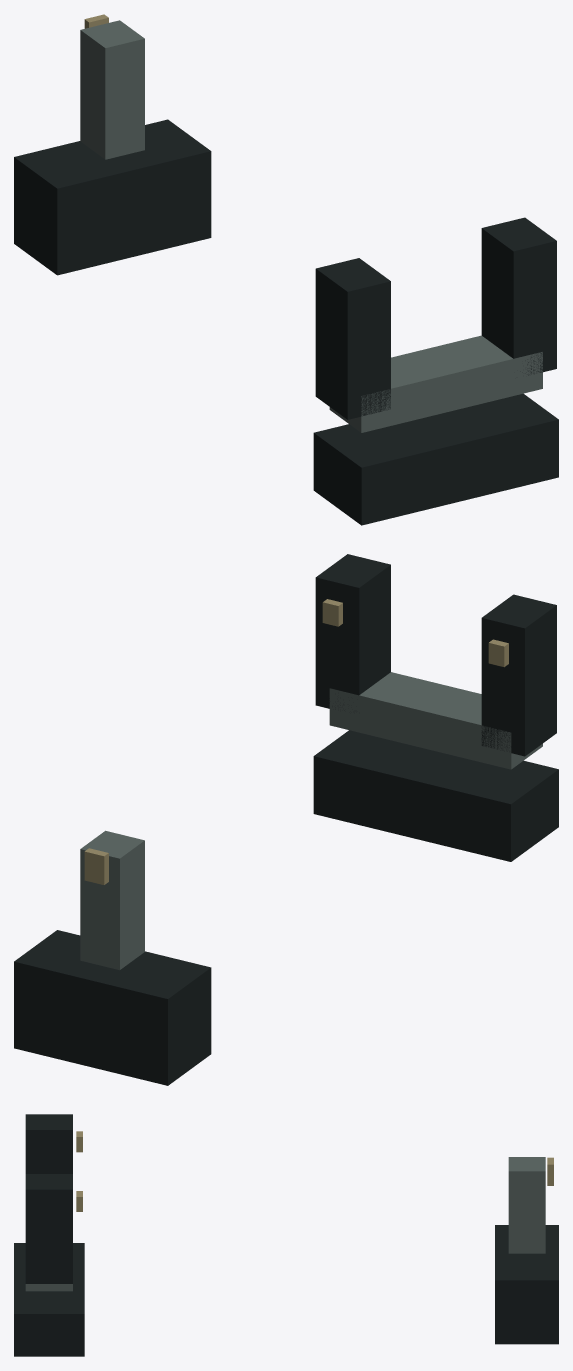
File: optic_iron.glb
3 views of the same model, one above another, from view 1: azimuth 30°, elevation 25°; view 2: azimuth 150°, elevation 25°; view 3: azimuth 270°, elevation 25° (orthographic). The views are drawn at different scales.
Visible parts, largest first — view 1: front iron pedestal, rear iron base, rear iron wing -1, rear iron bridge, rear iron wing 1, front iron blade; view 2: front iron pedestal, rear iron base, rear iron wing -1, rear iron bridge, rear iron wing 1, front iron blade, front insert; view 3: front iron pedestal, rear iron base, rear iron wing 1, front iron blade, rear iron wing -1, rear iron bridge.
Part boxes in pixels (box(x1,y1,x2,y2)): front iron pedestal: box(14, 119, 211, 275); rear iron base: box(313, 393, 558, 525); rear iron wing -1: box(315, 258, 390, 419); rear iron bridge: box(329, 335, 542, 432); rear iron wing 1: box(481, 217, 556, 375); front iron blade: box(80, 20, 144, 159); front iron pedestal: box(14, 930, 211, 1085); rear iron base: box(313, 730, 558, 861); rear iron wing -1: box(481, 594, 556, 756); rear iron bridge: box(329, 672, 542, 769); rear iron wing 1: box(315, 554, 390, 710); front iron blade: box(80, 830, 144, 970); front insert: box(84, 848, 108, 884); front iron pedestal: box(495, 1225, 558, 1344); rear iron base: box(14, 1243, 84, 1356); rear iron wing 1: box(25, 1174, 72, 1283); front iron blade: box(508, 1157, 545, 1253); rear iron wing -1: box(25, 1114, 72, 1173); rear iron bridge: box(25, 1284, 72, 1291).
Size of the model in its own units: 0.053 by 0.0555 by 0.162.
